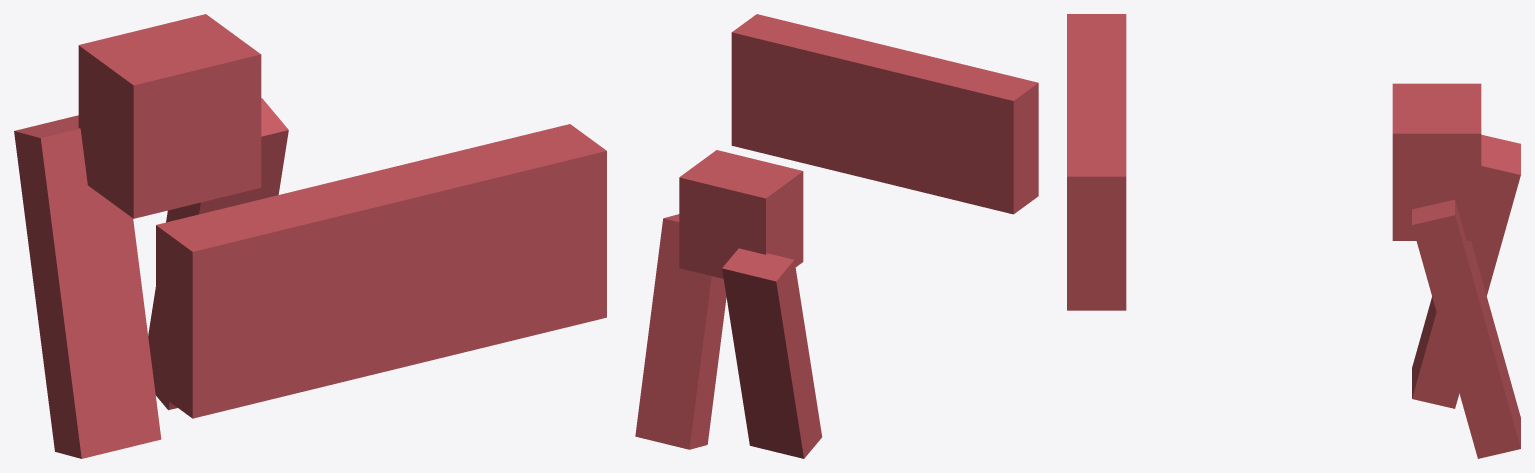
Rendered from bandana.glb.
3 views of the same model, side by side, from view 1: azimuth 30°, elevation 25°; view 2: azimuth 150°, elevation 25°; view 3: azimuth 270°, elevation 25° (orthographic). The views are drawn at different scales.
Visible parts, largest first — view 1: tuch, zipfel-1, knoten, zipfel1; view 2: tuch, zipfel-1, zipfel1, knoten; view 3: tuch, zipfel1, knoten, zipfel-1.
Boxes of the visible parts, x1=… form: tuch: x1=156, y1=124, x2=606, y2=418; zipfel-1: x1=14, y1=115, x2=161, y2=458; knoten: x1=78, y1=14, x2=261, y2=218; zipfel1: x1=148, y1=98, x2=288, y2=410; tuch: x1=731, y1=14, x2=1038, y2=214; zipfel-1: x1=722, y1=248, x2=822, y2=458; zipfel1: x1=635, y1=214, x2=726, y2=449; knoten: x1=679, y1=150, x2=803, y2=278; tuch: x1=1067, y1=14, x2=1126, y2=310; zipfel1: x1=1412, y1=199, x2=1520, y2=458; knoten: x1=1392, y1=83, x2=1481, y2=240; zipfel-1: x1=1412, y1=134, x2=1520, y2=408.
Bounding box in the file's own units: 0.13 × 0.1205 × 0.1534.
